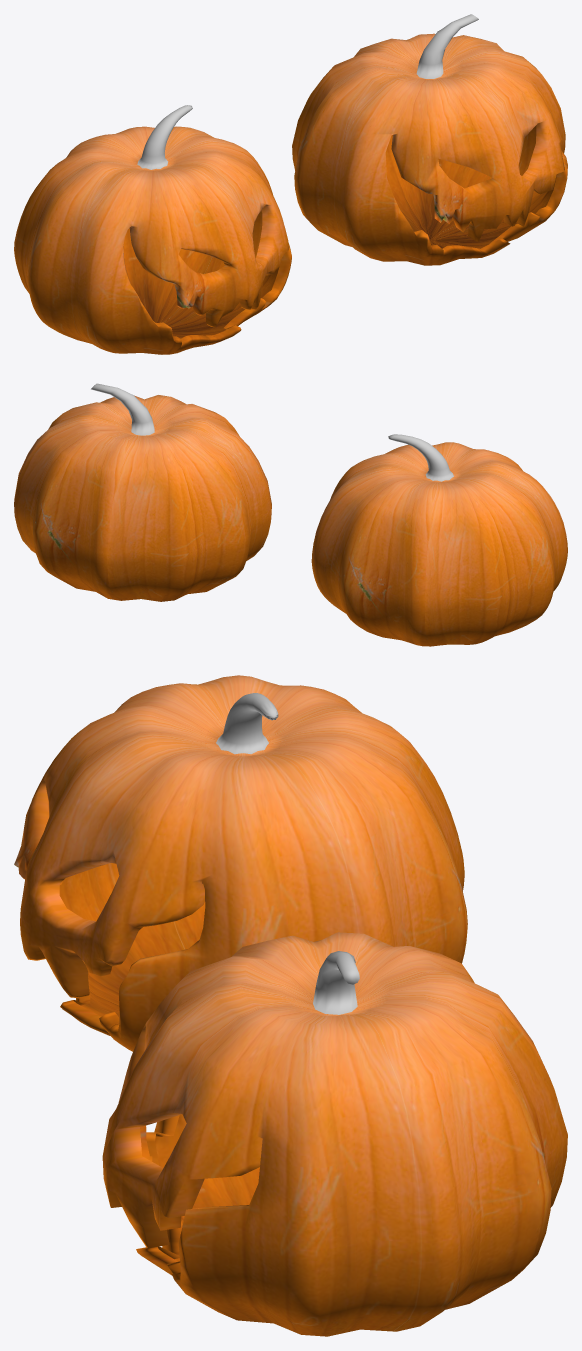
The model's file is Pumpkin.fbx.
The picture shows the model from 3 angles, top to bottom: view 1: azimuth 30°, elevation 25°; view 2: azimuth 150°, elevation 25°; view 3: azimuth 270°, elevation 25°; orthographic projection. The views are drawn at different scales.
Parts seen in each view (by area): view 1: pSphere1, pSphere2; view 2: pSphere1, pSphere2; view 3: pSphere1, pSphere2.
Boxes of the visible parts, <box> form: pSphere1: <box>292,14,567,265</box>; pSphere2: <box>14,105,291,354</box>; pSphere1: <box>14,383,271,601</box>; pSphere2: <box>311,434,567,646</box>; pSphere1: <box>102,932,567,1336</box>; pSphere2: <box>14,675,467,1051</box>.
Size of the model in its own units: 36.86 by 13.54 by 18.64.
